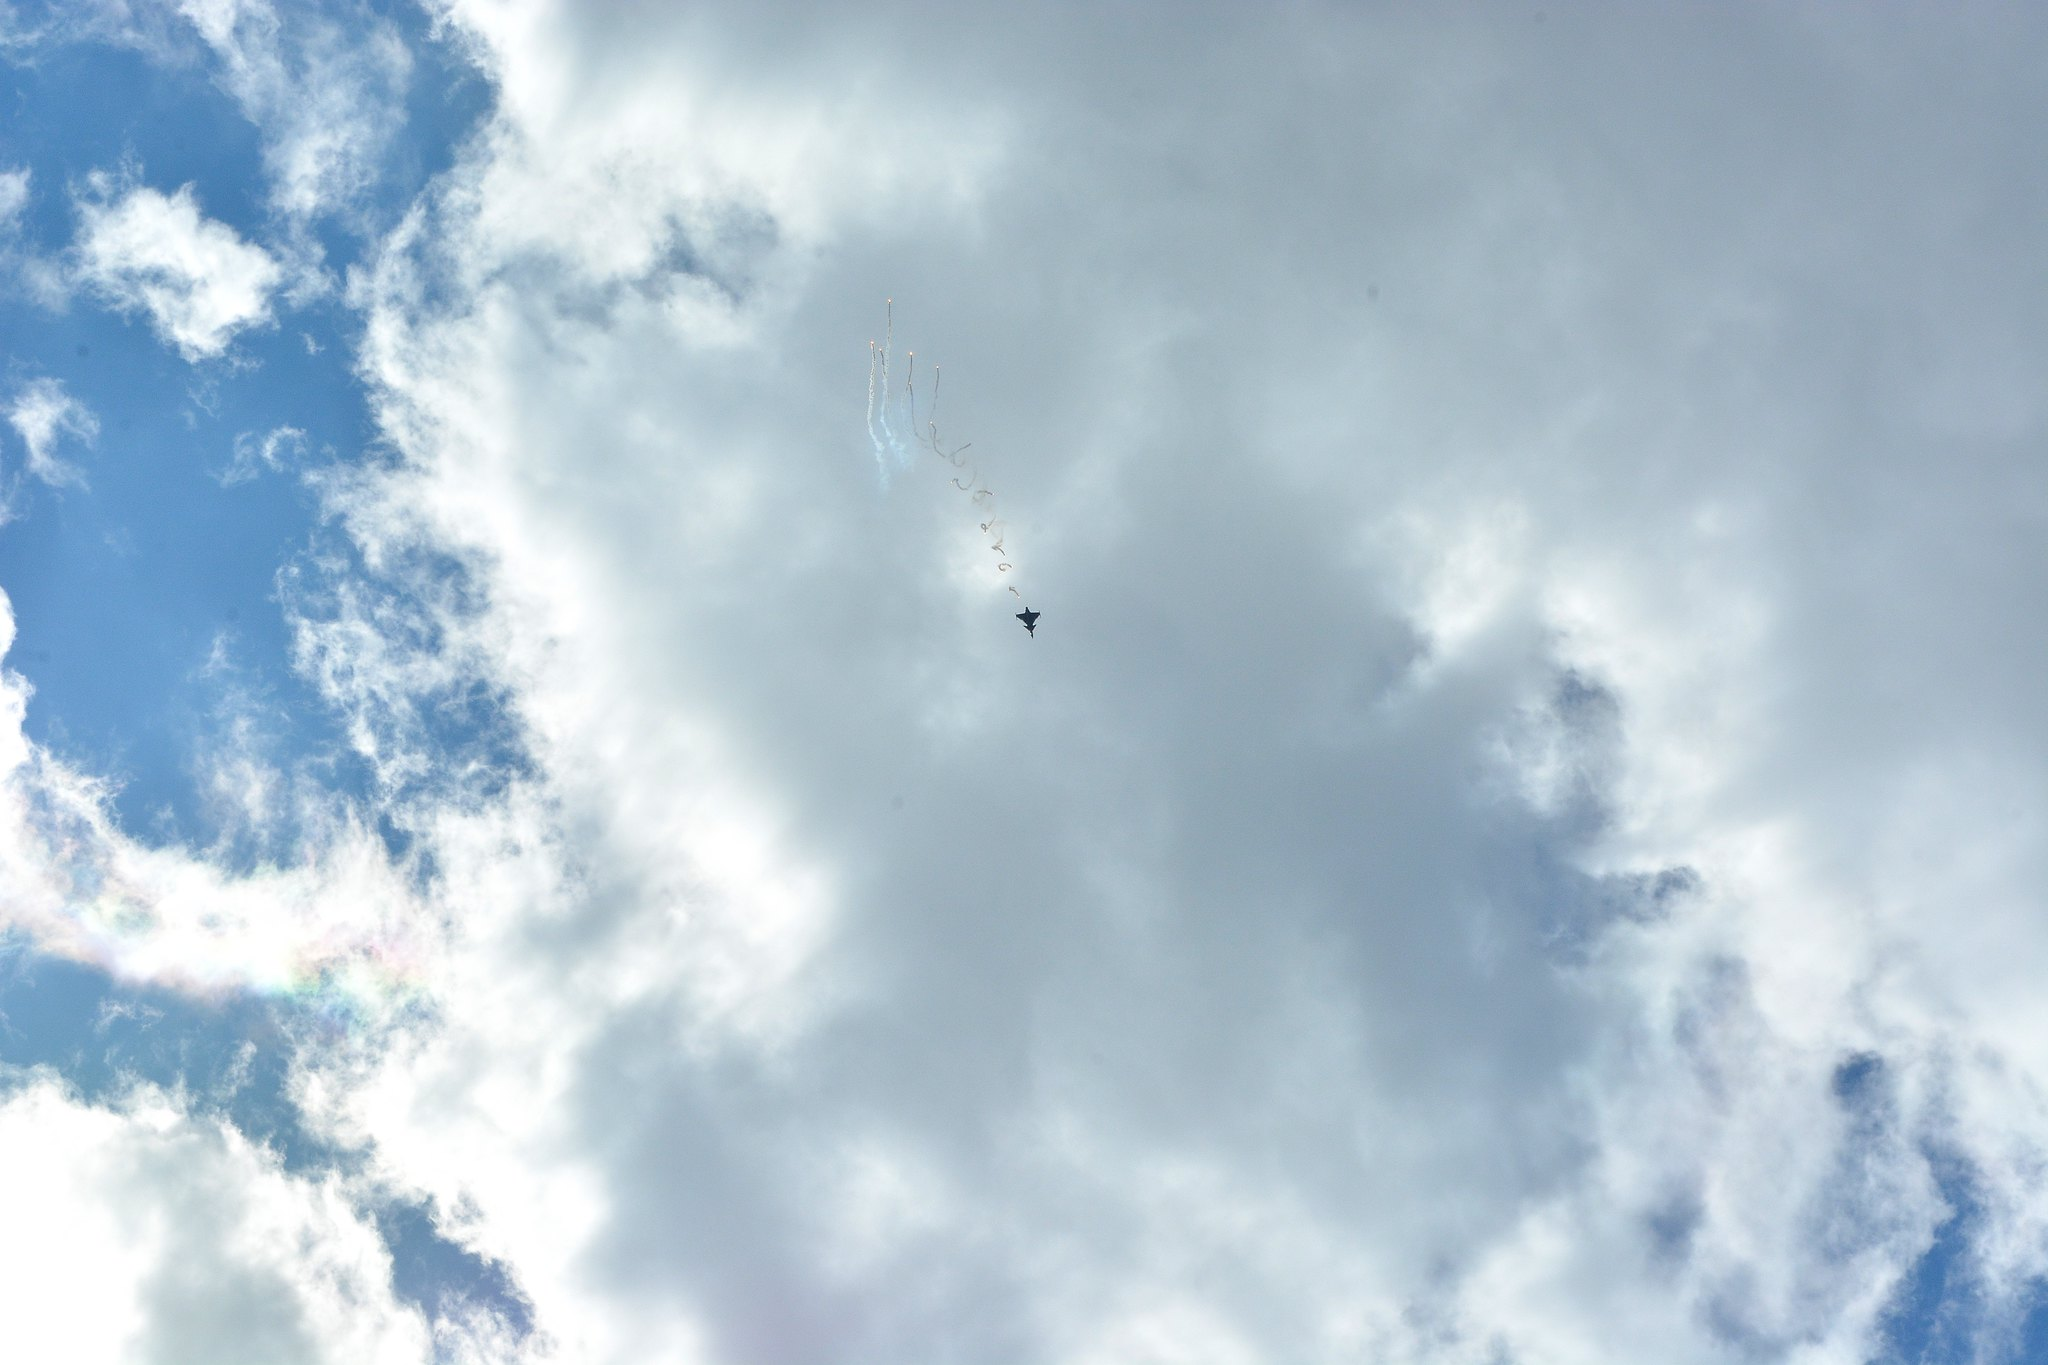JAS39: (1014, 606, 1042, 640)
